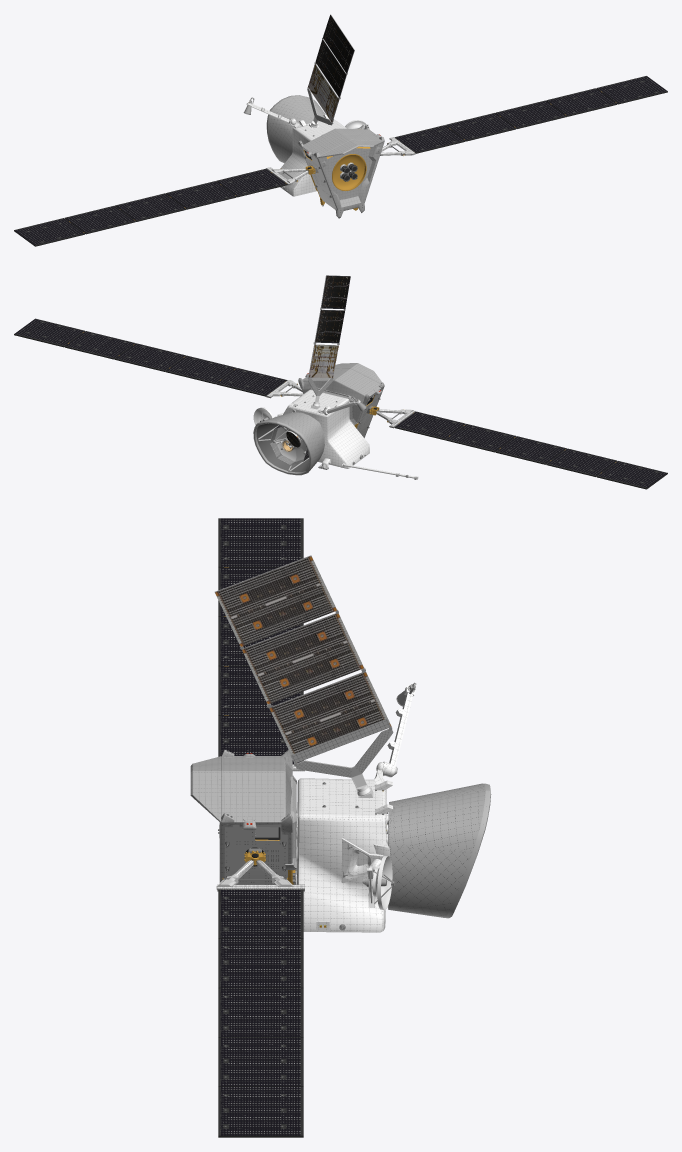
File: bepicolombo-source.glb
3 renders of one model, top to bottom at view 1: azimuth 30°, elevation 25°; view 2: azimuth 150°, elevation 25°; view 3: azimuth 270°, elevation 25°, orthographic. The views are drawn at different scales.
Parts seen in each view (by area): view 1: SM_MTM, bepi_mpo_2020, SunShield; view 2: SM_MTM, bepi_mpo_2020, SunShield, SM_MMO; view 3: SM_MTM, bepi_mpo_2020, SunShield.
Boxes of the visible parts, x1,y1,x2,y2 form: SM_MTM: (14, 76, 667, 246); bepi_mpo_2020: (243, 14, 366, 196); SunShield: (266, 95, 324, 163); SM_MTM: (14, 318, 667, 489); bepi_mpo_2020: (253, 275, 418, 479); SunShield: (253, 412, 324, 475); SM_MMO: (269, 425, 308, 465); SM_MTM: (190, 518, 304, 1137); bepi_mpo_2020: (214, 555, 416, 932); SunShield: (388, 783, 491, 918).
Bounding box in the file's own units: 299845 × 83778 × 61646.
Materials: 5 (5 with a texture image).
